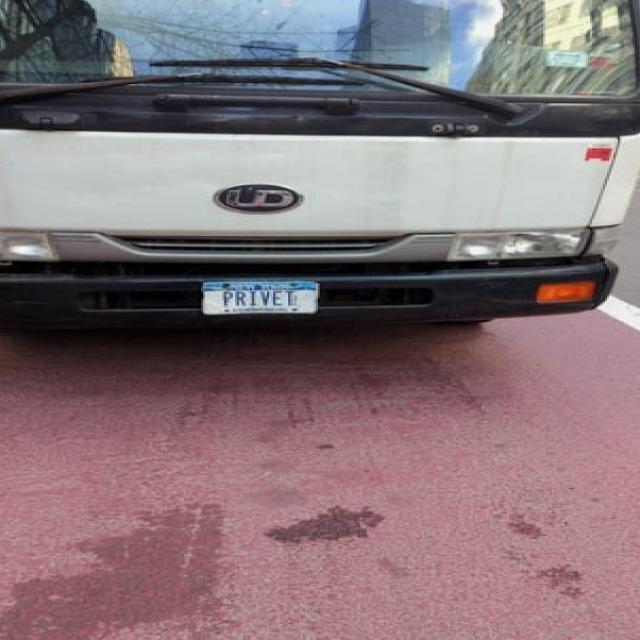license-plate: (201, 267, 332, 315)
